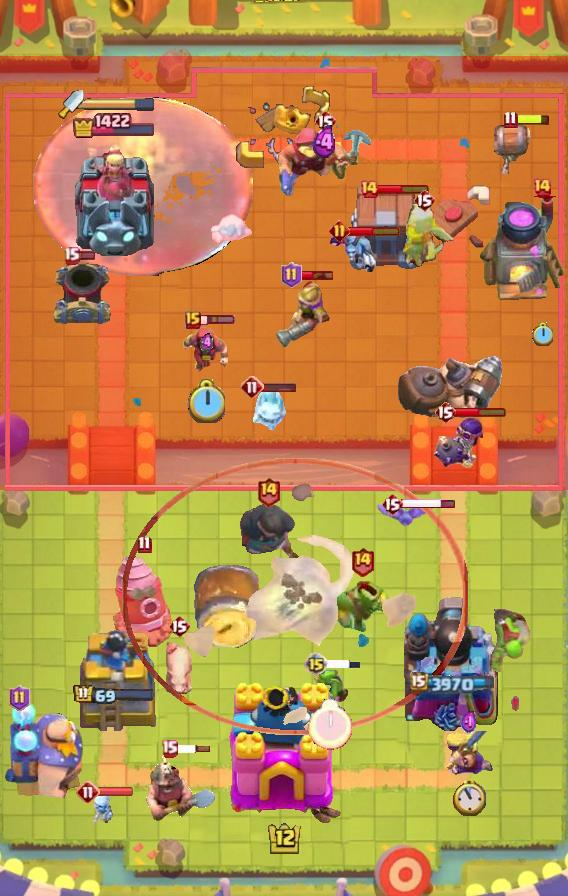arrows: (445, 731, 493, 777)
bandit: (144, 751, 215, 823)
bar: (70, 142, 158, 256)
bar-level: (482, 609, 532, 675)
barbarian: (373, 502, 437, 528)
bat: (245, 384, 289, 434), (210, 212, 252, 250)
bomb: (347, 185, 425, 271)
bomb-tower: (275, 279, 333, 349)
bowler: (181, 324, 231, 380)
dirt: (192, 561, 264, 651)
electro-spirit: (312, 125, 338, 159), (461, 710, 477, 735), (200, 333, 212, 353)
elixir: (308, 699, 352, 750), (187, 379, 225, 423), (454, 779, 487, 817), (531, 322, 552, 346)
emote: (400, 497, 455, 511), (378, 183, 431, 195), (348, 225, 401, 237), (453, 406, 506, 418), (515, 114, 551, 127), (200, 314, 237, 326), (299, 269, 335, 281), (261, 381, 297, 393), (326, 658, 362, 670), (98, 787, 134, 798), (175, 744, 211, 754), (76, 250, 95, 261)
fireball: (276, 126, 374, 198)
flying-machine: (334, 581, 390, 635)
giant: (162, 636, 196, 698)
goblin-ball: (431, 415, 485, 471)
heal-spirit: (89, 792, 117, 824)
hunter: (478, 196, 568, 304)
king-tower: (222, 680, 346, 826)
king-tower-bar: (84, 97, 156, 111)
knight: (494, 123, 544, 177)
little-prince: (0, 700, 88, 800)
magic-archer: (111, 552, 177, 650)
musketeer: (51, 260, 113, 328)
phoenix-egg: (31, 96, 253, 276)
poison: (390, 204, 458, 272)
queen-tower: (64, 621, 164, 731)
royal-delivery: (327, 227, 379, 273)
royal-ghost: (122, 458, 468, 735)
royal-hog: (229, 501, 307, 573)
selected: (71, 112, 156, 140), (411, 672, 498, 694), (73, 684, 155, 706)
text: (350, 546, 375, 577), (256, 476, 280, 507), (240, 375, 264, 399), (304, 652, 328, 676), (76, 780, 100, 804), (282, 262, 303, 288), (9, 685, 30, 711), (314, 109, 336, 133), (413, 188, 435, 212), (434, 400, 456, 424), (381, 492, 403, 516), (168, 614, 190, 638), (330, 219, 351, 240), (532, 177, 552, 197), (359, 179, 379, 199), (64, 246, 81, 265), (162, 738, 179, 757), (185, 311, 201, 329), (502, 111, 517, 130), (137, 535, 151, 553)
tower-bar: (404, 593, 502, 731)
wizard: (394, 353, 506, 423)
zap: (310, 666, 350, 704)
